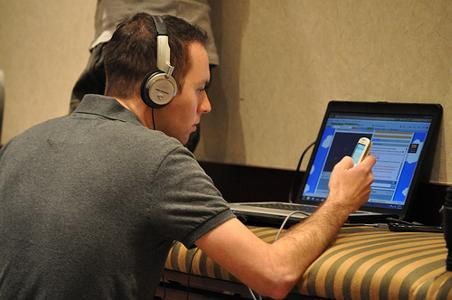person: (2, 14, 376, 300)
